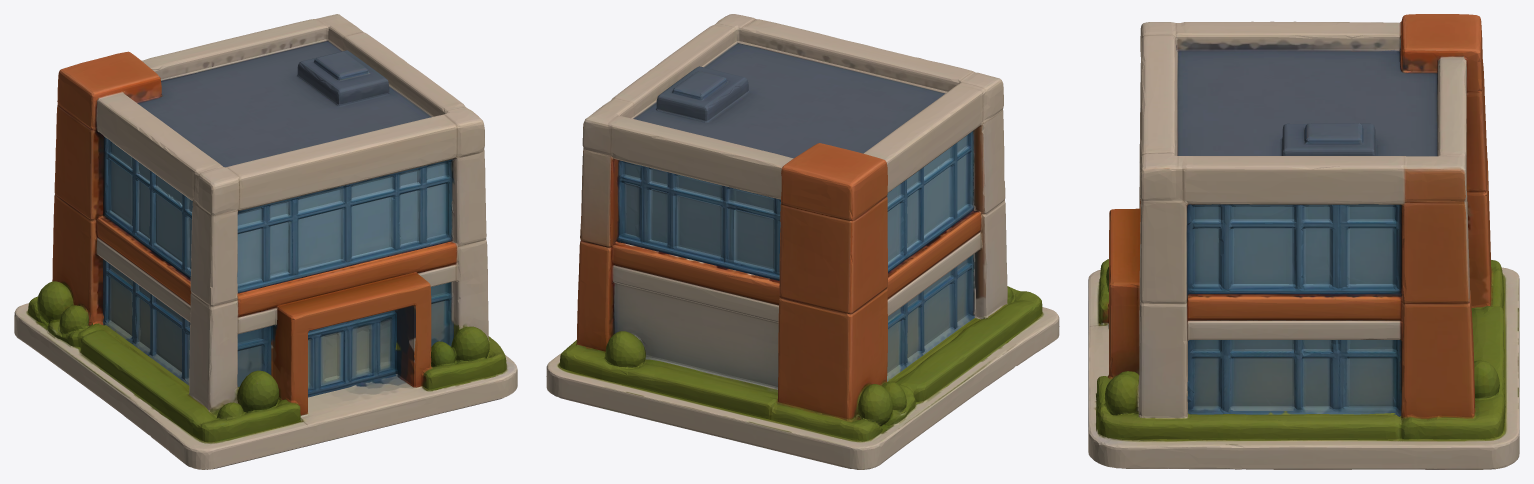
File: now-office.glb
3 renders of one model, left to right at view 1: azimuth 30°, elevation 25°; view 2: azimuth 150°, elevation 25°; view 3: azimuth 270°, elevation 25°, orthographic. The views are drawn at different scales.
Parts seen in each view (by area): view 1: textured_mesh.obj; view 2: textured_mesh.obj; view 3: textured_mesh.obj.
Boxes of the visible parts, box(x1,y1,x2,y2) form: textured_mesh.obj: box(14, 14, 517, 469); textured_mesh.obj: box(546, 14, 1059, 469); textured_mesh.obj: box(1088, 14, 1519, 469).
Bounding box in the file's own units: 1.98 × 1.52 × 1.99.
1 material, 1 textured.
